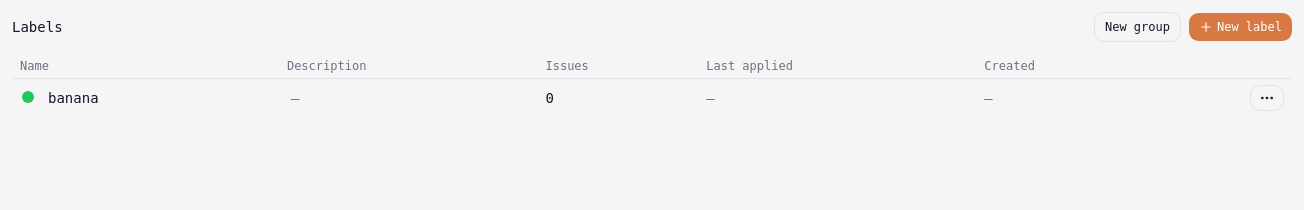
Test: labels settings › new group creates the label and opens its child row
Expected: the text "banana" is shown, [48,90,99,106]
Click the button "New group" at (1137, 27), box [1094,12,1181,42]
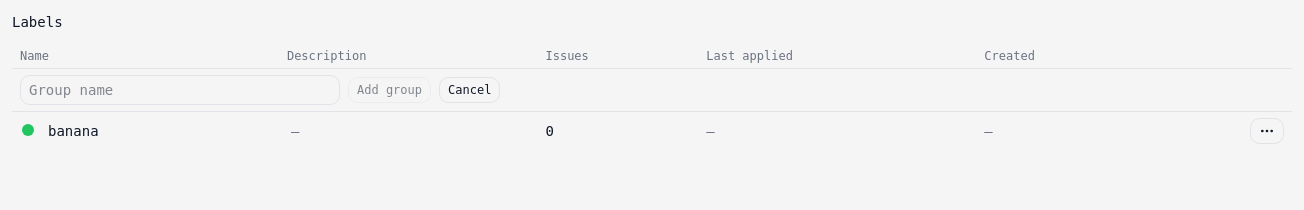
Type "platform" into the field named "New group name" at (180, 90), box [20,75,340,105]
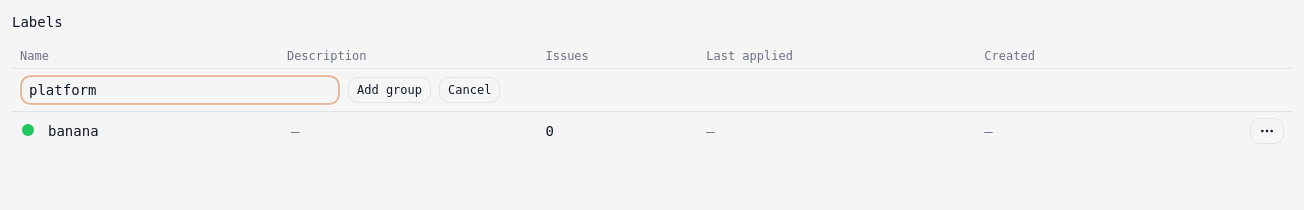
Click the button "Add group" at (390, 90), box [348,77,431,103]
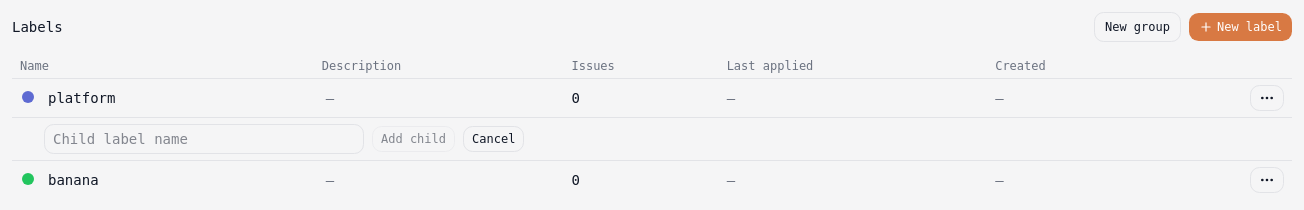
Now the field labelled "Child label name" is shown, box [44,124,364,154]
